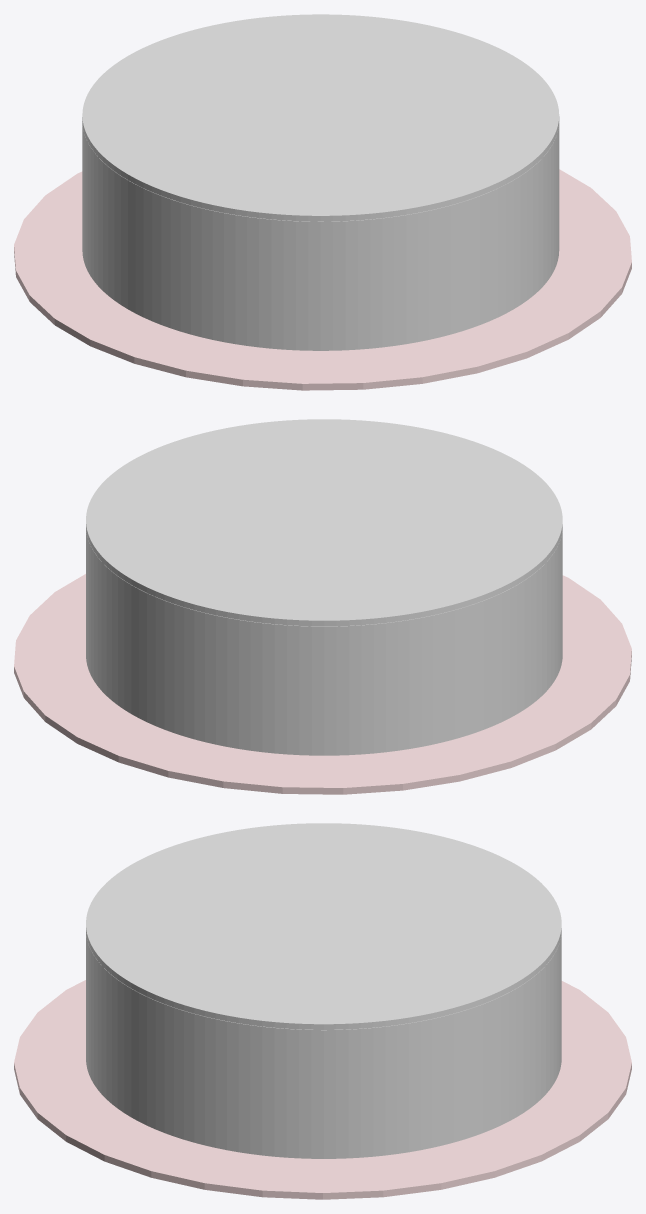
File: CAKE_B_1L_RENAME.glb
3 views of the same model, one above another, from view 1: azimuth 30°, elevation 25°; view 2: azimuth 150°, elevation 25°; view 3: azimuth 270°, elevation 25° (orthographic).
Parts seen in each view (by area): view 1: CREAM, BATTER, PLATE; view 2: CREAM, BATTER, PLATE; view 3: CREAM, BATTER, PLATE.
Part boxes in pixels (<box>): CREAM: <box>82,14,559,221</box>; BATTER: <box>82,122,559,350</box>; PLATE: <box>14,169,631,390</box>; CREAM: <box>86,419,562,626</box>; BATTER: <box>86,530,562,755</box>; PLATE: <box>14,574,631,794</box>; CREAM: <box>86,823,561,1029</box>; BATTER: <box>86,933,561,1158</box>; PLATE: <box>14,980,631,1199</box>.
Bounding box in the file's own units: 1.97 × 0.5098 × 1.97.
